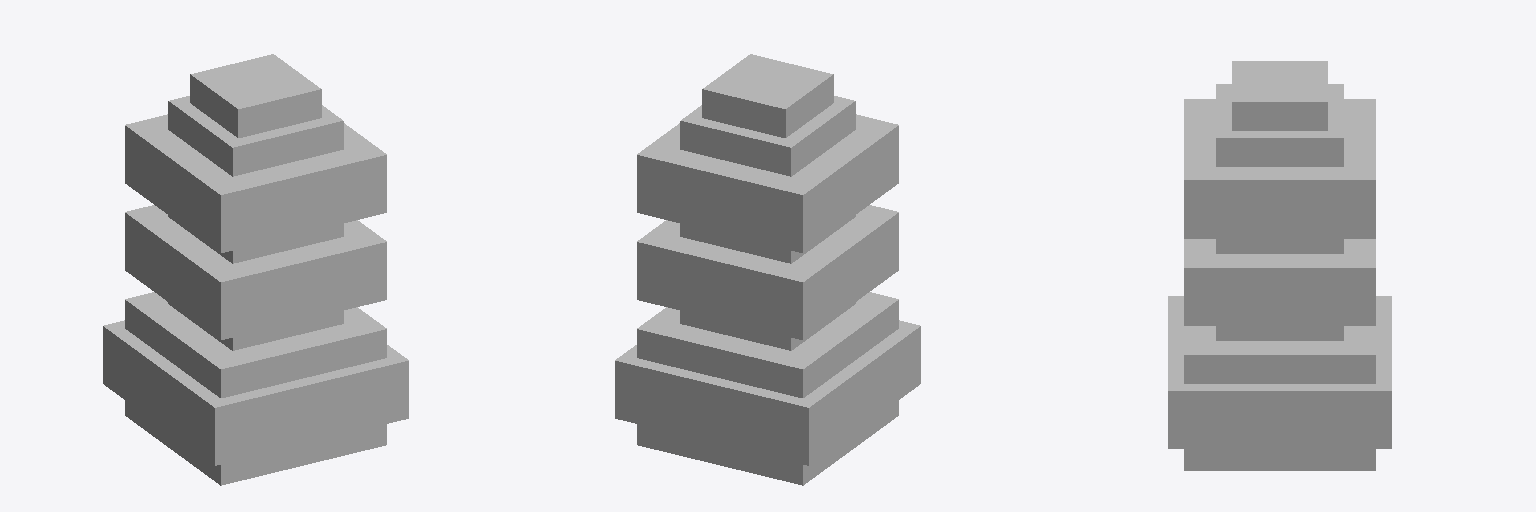
The model's file is connector_hv_io.obj.
The picture shows the model from 3 angles: view 1: azimuth 30°, elevation 25°; view 2: azimuth 150°, elevation 25°; view 3: azimuth 270°, elevation 25°; orthographic projection.
Visible parts, largest first — view 1: connector, cube; view 2: connector, cube; view 3: connector, cube.
Boxes of the visible parts, box(x1,y1,x2,y2) form: connector: box(125, 54, 386, 485); cube: box(103, 320, 408, 465); connector: box(637, 54, 898, 485); cube: box(615, 320, 920, 465); connector: box(1184, 61, 1375, 470); cube: box(1168, 296, 1391, 448).
Bounding box in the file's own units: 0.4375 × 0.75 × 0.4375.